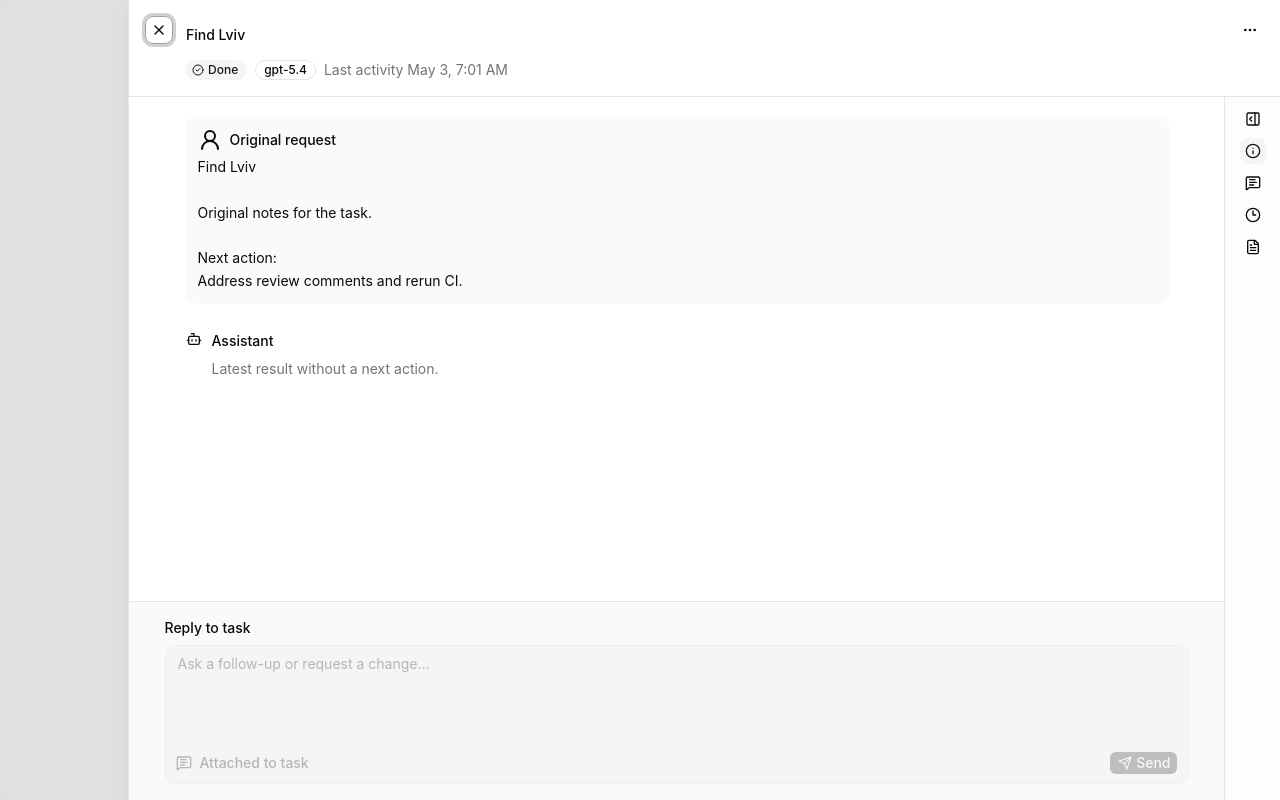
TaskModal › shows task-note next actions in the context inspector
Click the button named "Open Context".
click(1252, 183)  # box [1238,169,1266,197]
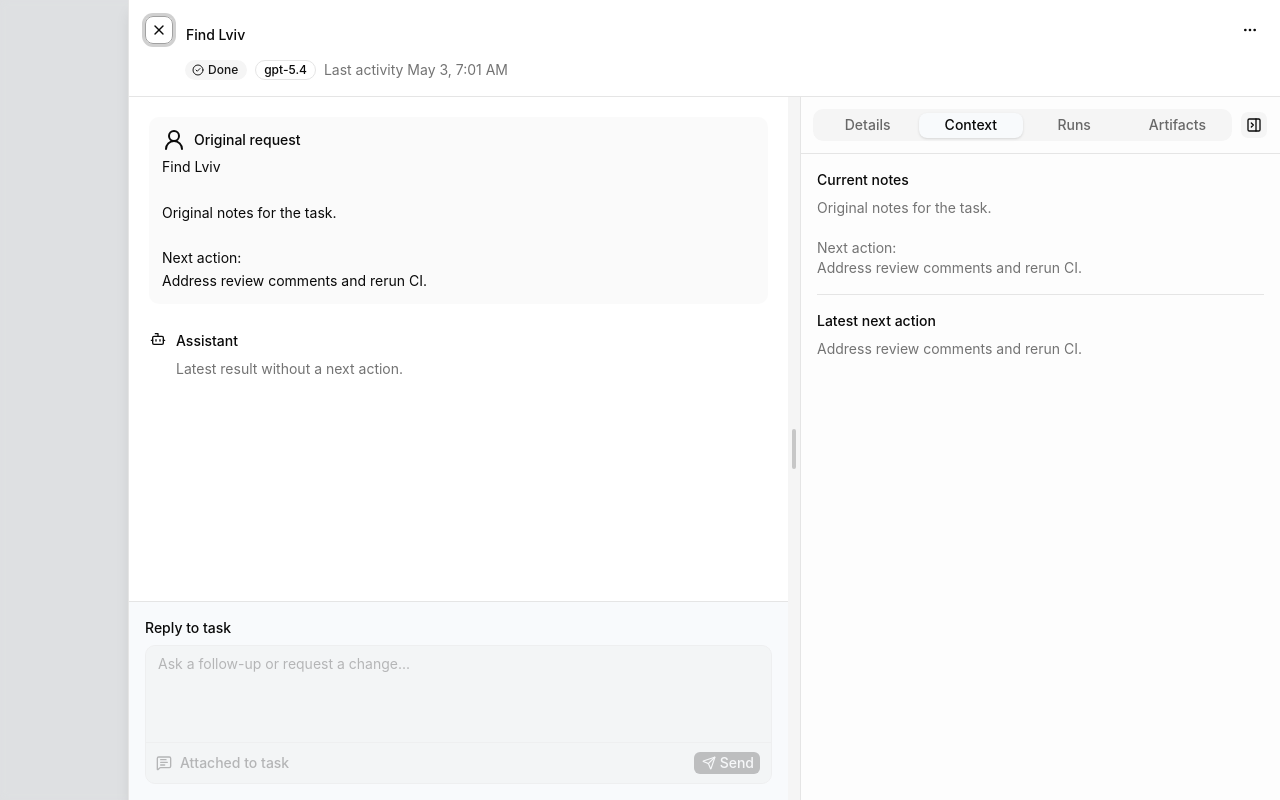
expect the text "Address review comments and rerun CI." is shown: met, box [162,158,427,289]
expect the text "Latest next action" is shown: met, box [817,312,936,329]
